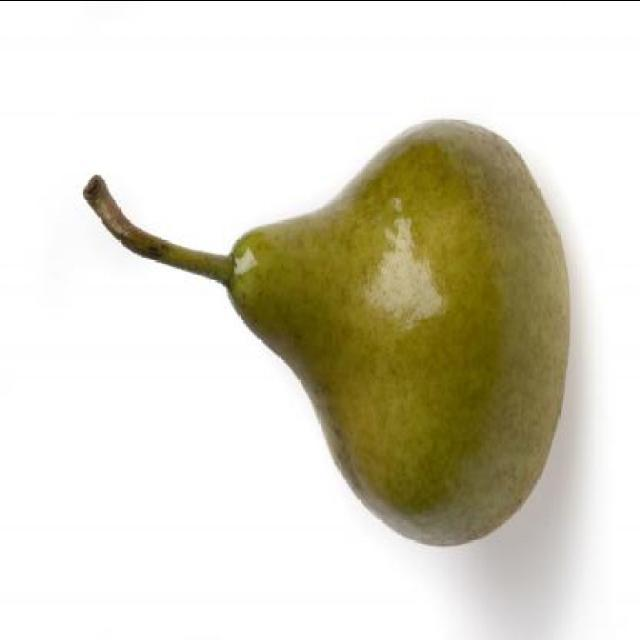Pear: (226, 118, 569, 544)
